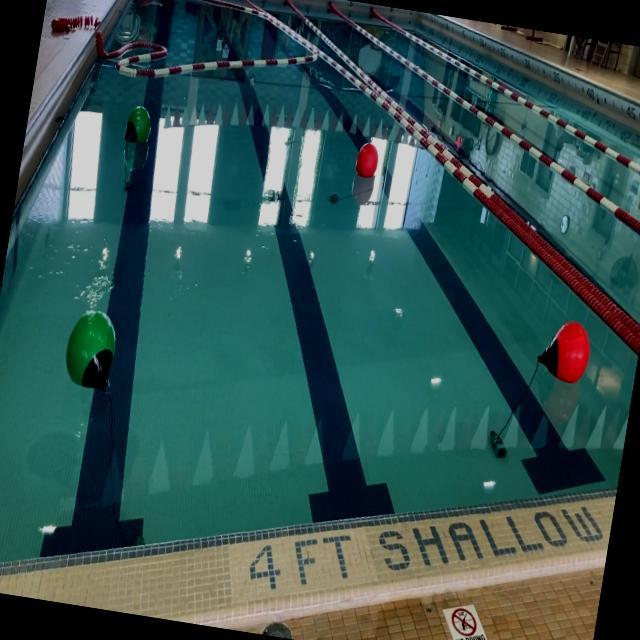buoy: (61, 306, 121, 394), (533, 316, 595, 386), (121, 100, 155, 152), (354, 142, 381, 182)
